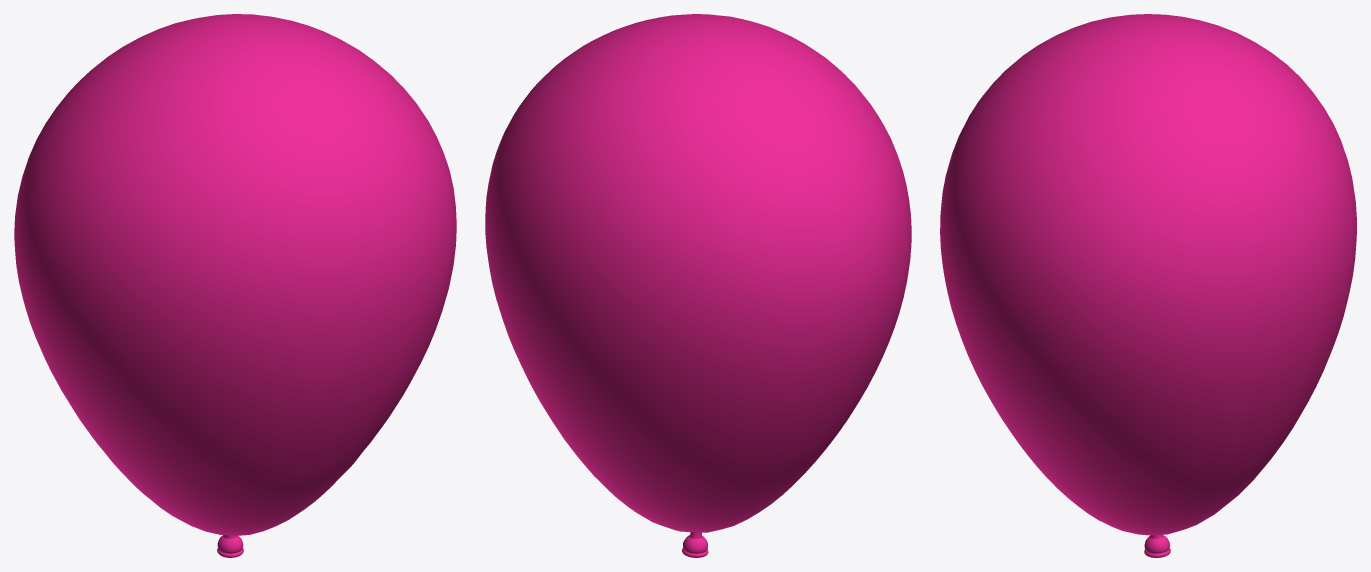
The model's file is balloon_pink.fbx.
The picture shows the model from 3 angles, left to right: view 1: azimuth 30°, elevation 25°; view 2: azimuth 150°, elevation 25°; view 3: azimuth 270°, elevation 25°; orthographic projection.
Parts seen in each view (by area): view 1: node_id214.001; view 2: node_id214.001; view 3: node_id214.001.
Part boxes in pixels (box(x1,y1,x2,y2)): node_id214.001: box(14, 14, 456, 557); node_id214.001: box(485, 14, 911, 557); node_id214.001: box(940, 14, 1356, 557).
Bounding box in the file's own units: 8.7 × 11.27 × 8.18.
